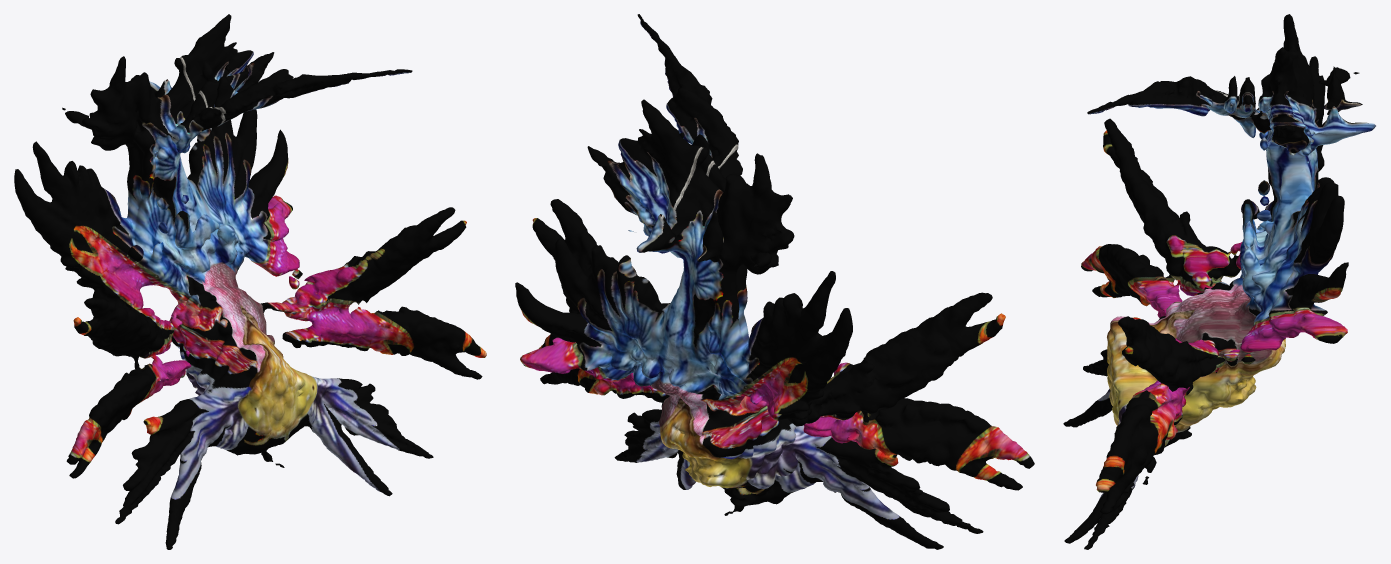
Rendered from chimera_1.glb.
3 views of the same model, side by side, from view 1: azimuth 30°, elevation 25°; view 2: azimuth 150°, elevation 25°; view 3: azimuth 270°, elevation 25° (orthographic). The views are drawn at different scales.
Visible parts, largest first — view 1: tmpf5xxhzt2; view 2: tmpf5xxhzt2; view 3: tmpf5xxhzt2.
Boxes of the visible parts, box(x1,y1,x2,y2) form: tmpf5xxhzt2: box(14, 14, 486, 549); tmpf5xxhzt2: box(515, 14, 1034, 549); tmpf5xxhzt2: box(1063, 14, 1375, 549).
Size of the model in its own units: 8.14 by 7.8 by 4.77.
Materials: 1 (1 with a texture image).
